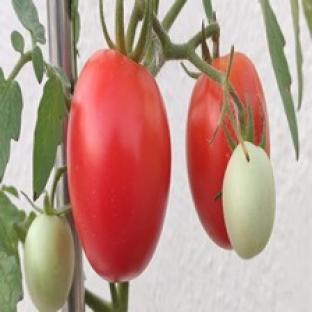Tomato: (67, 51, 171, 281), (187, 76, 236, 249), (223, 143, 275, 259), (24, 214, 75, 311)
